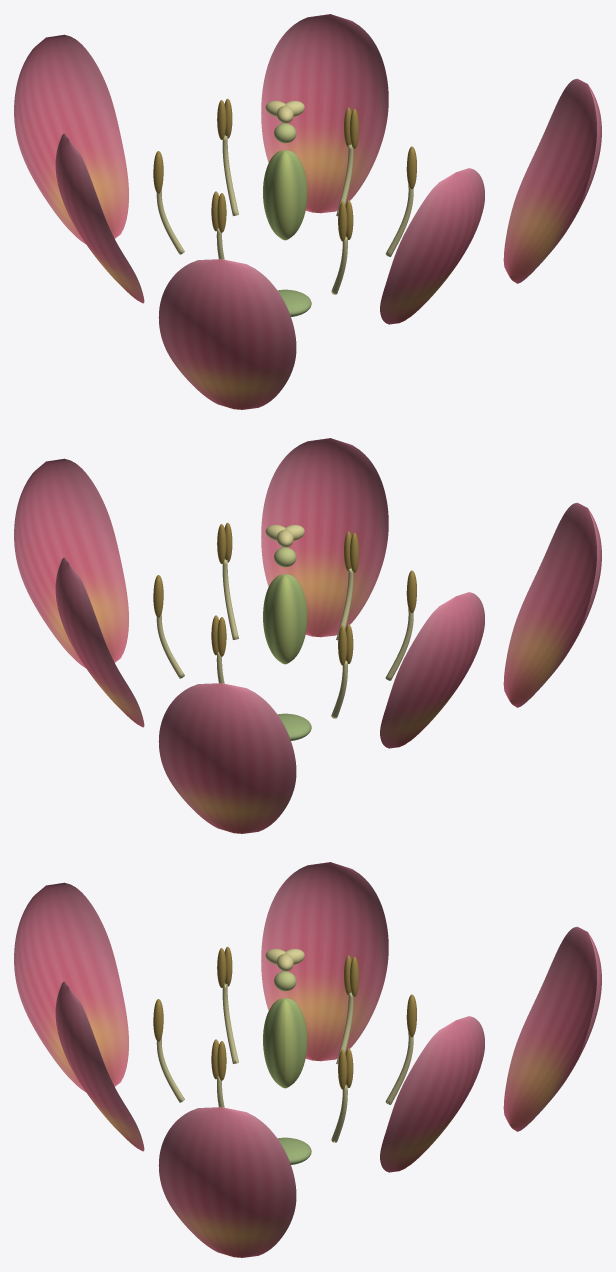
Rendered from tulipan_kvet_rozlozeny.glb.
3 renders of one model, top to bottom at view 1: azimuth 30°, elevation 25°; view 2: azimuth 150°, elevation 25°; view 3: azimuth 270°, elevation 25°, orthographic.
Parts seen in each view (by area): view 1: part_5, part_2, part_4, part_0, part_1, part_3, part_25, part_6, part_19; view 2: part_1, part_4, part_0, part_2, part_3, part_5, part_25, part_6; view 3: part_3, part_0, part_2, part_4, part_5, part_1, part_25, part_6.
Part boxes in pixels (x1=…): part_5: x1=261, y1=14, x2=388, y2=213; part_2: x1=158, y1=259, x2=296, y2=409; part_4: x1=14, y1=34, x2=128, y2=243; part_0: x1=503, y1=78, x2=601, y2=283; part_1: x1=380, y1=168, x2=484, y2=324; part_3: x1=55, y1=133, x2=144, y2=303; part_25: x1=263, y1=150, x2=307, y2=240; part_6: x1=277, y1=289, x2=311, y2=316; part_19: x1=222, y1=135, x2=238, y2=215; part_1: x1=261, y1=438, x2=388, y2=637; part_4: x1=158, y1=683, x2=296, y2=833; part_0: x1=14, y1=458, x2=128, y2=667; part_2: x1=503, y1=502, x2=601, y2=707; part_3: x1=380, y1=592, x2=484, y2=748; part_5: x1=55, y1=557, x2=144, y2=727; part_25: x1=263, y1=574, x2=307, y2=664; part_6: x1=277, y1=713, x2=311, y2=740; part_3: x1=261, y1=862, x2=388, y2=1061; part_0: x1=158, y1=1107, x2=296, y2=1257; part_2: x1=14, y1=882, x2=128, y2=1091; part_4: x1=503, y1=926, x2=601, y2=1131; part_5: x1=380, y1=1016, x2=484, y2=1172; part_1: x1=55, y1=981, x2=144, y2=1151; part_25: x1=263, y1=998, x2=307, y2=1088; part_6: x1=277, y1=1137, x2=311, y2=1164.
Bounding box in the file's own units: 0.9881 × 0.3955 × 1.01.
